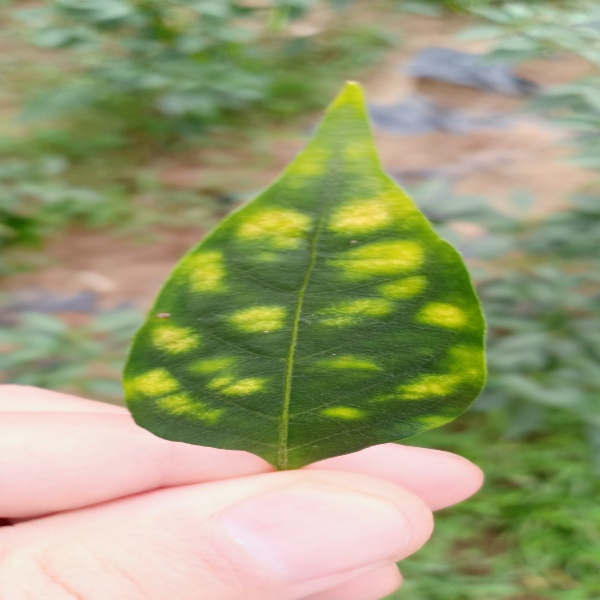iouv: (121, 79, 488, 470)
